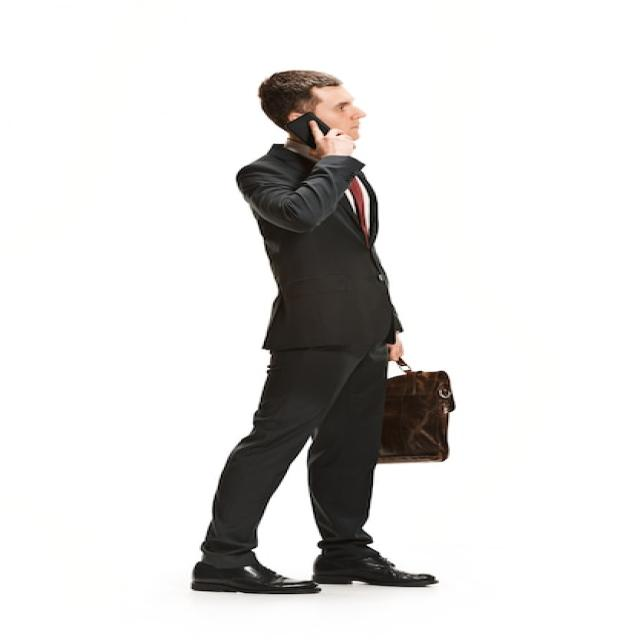Person: (194, 69, 456, 593)
